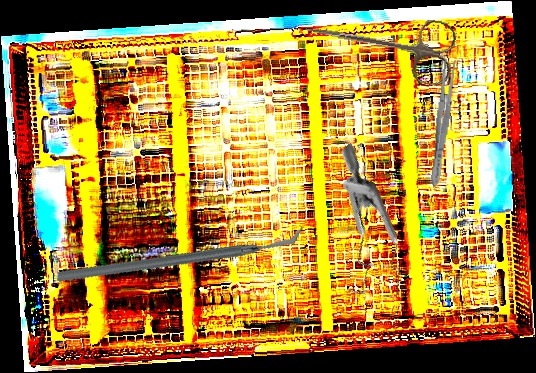Chopper: (56, 168, 305, 341)
Dressing Forceps: (427, 57, 458, 188)
Iris Scissors: (299, 0, 459, 88)
Speculum: (274, 141, 450, 318)
